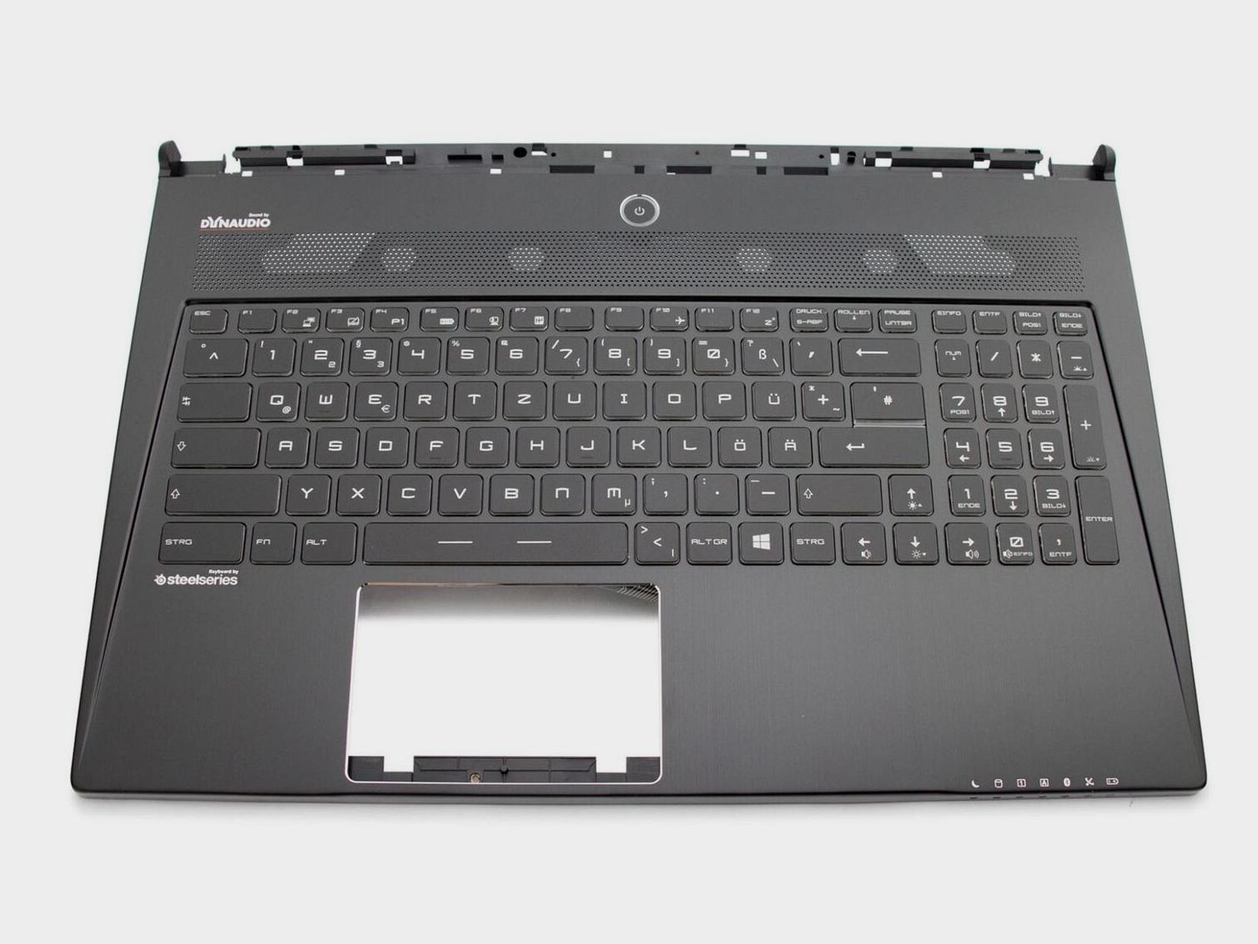0: (689, 332, 733, 372)
1: (249, 333, 294, 374)
2: (298, 333, 342, 374)
3: (347, 333, 390, 374)
4: (395, 333, 439, 372)
5: (444, 333, 488, 372)
6: (493, 332, 537, 372)
7: (542, 332, 586, 372)
8: (591, 332, 635, 372)
9: (641, 332, 685, 371)
a: (262, 422, 308, 465)
accent: (788, 334, 830, 372)
ae: (765, 422, 811, 464)
alt-left: (297, 517, 355, 563)
altgr-right: (685, 517, 733, 563)
b: (486, 469, 533, 513)
c: (384, 469, 431, 513)
caret: (182, 335, 246, 374)
comma: (640, 469, 687, 512)
d: (362, 422, 407, 465)
del: (835, 334, 918, 373)
e: (351, 377, 397, 419)
enter: (815, 422, 927, 464)
f: (412, 423, 457, 464)
g: (462, 422, 507, 464)
h: (512, 422, 558, 464)
hash: (848, 379, 923, 419)
i: (600, 375, 645, 416)
j: (564, 421, 609, 464)
k: (614, 421, 660, 464)
keyboard: (144, 286, 1131, 580)
l: (664, 422, 710, 464)
less: (632, 518, 679, 564)
m: (588, 469, 636, 513)
minus: (742, 470, 789, 512)
n: (537, 469, 584, 513)
o: (649, 376, 695, 417)
oe: (715, 422, 761, 464)
p: (700, 376, 744, 417)
plus: (798, 377, 843, 418)
point: (692, 469, 737, 512)
q: (253, 377, 299, 419)
r: (401, 377, 445, 418)
s: (311, 423, 357, 465)
shift-left: (164, 468, 281, 513)
shift-lock: (169, 422, 259, 465)
shift-right: (793, 469, 881, 513)
space: (360, 517, 628, 564)
ss: (739, 334, 782, 372)
strg-left: (154, 517, 246, 562)
strg-right: (788, 518, 835, 563)
t: (451, 377, 496, 417)
tab: (175, 378, 250, 419)
u: (551, 376, 595, 418)
ue: (749, 376, 793, 417)
v: (435, 469, 482, 514)
w: (303, 377, 347, 419)
x: (334, 469, 380, 513)
y: (283, 470, 330, 513)
z: (501, 376, 545, 418)
